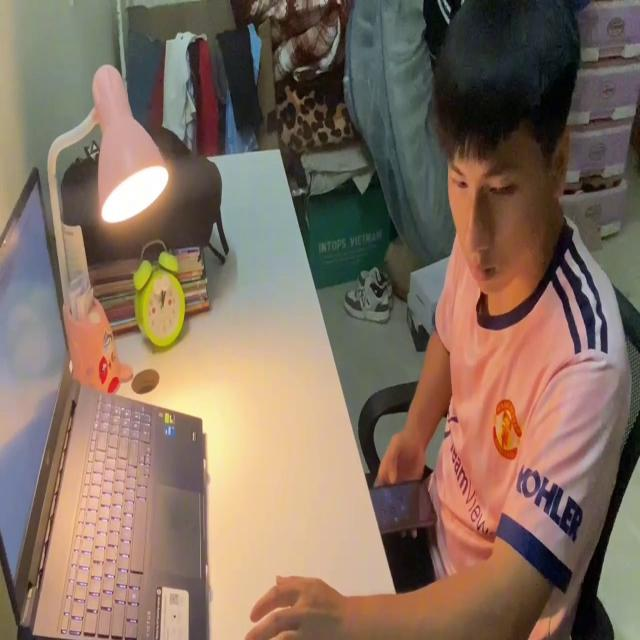laptop: (0, 159, 208, 640)
phone: (365, 472, 441, 540)
student: (245, 8, 628, 640)
